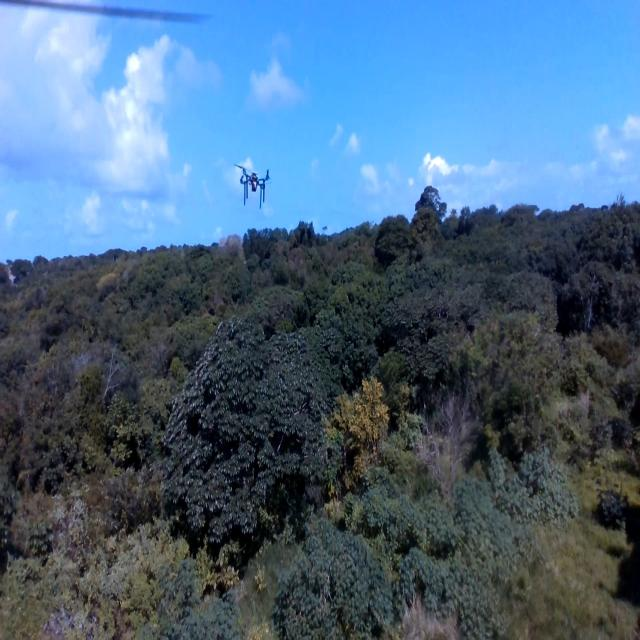-uav-: (231, 147, 274, 210)
